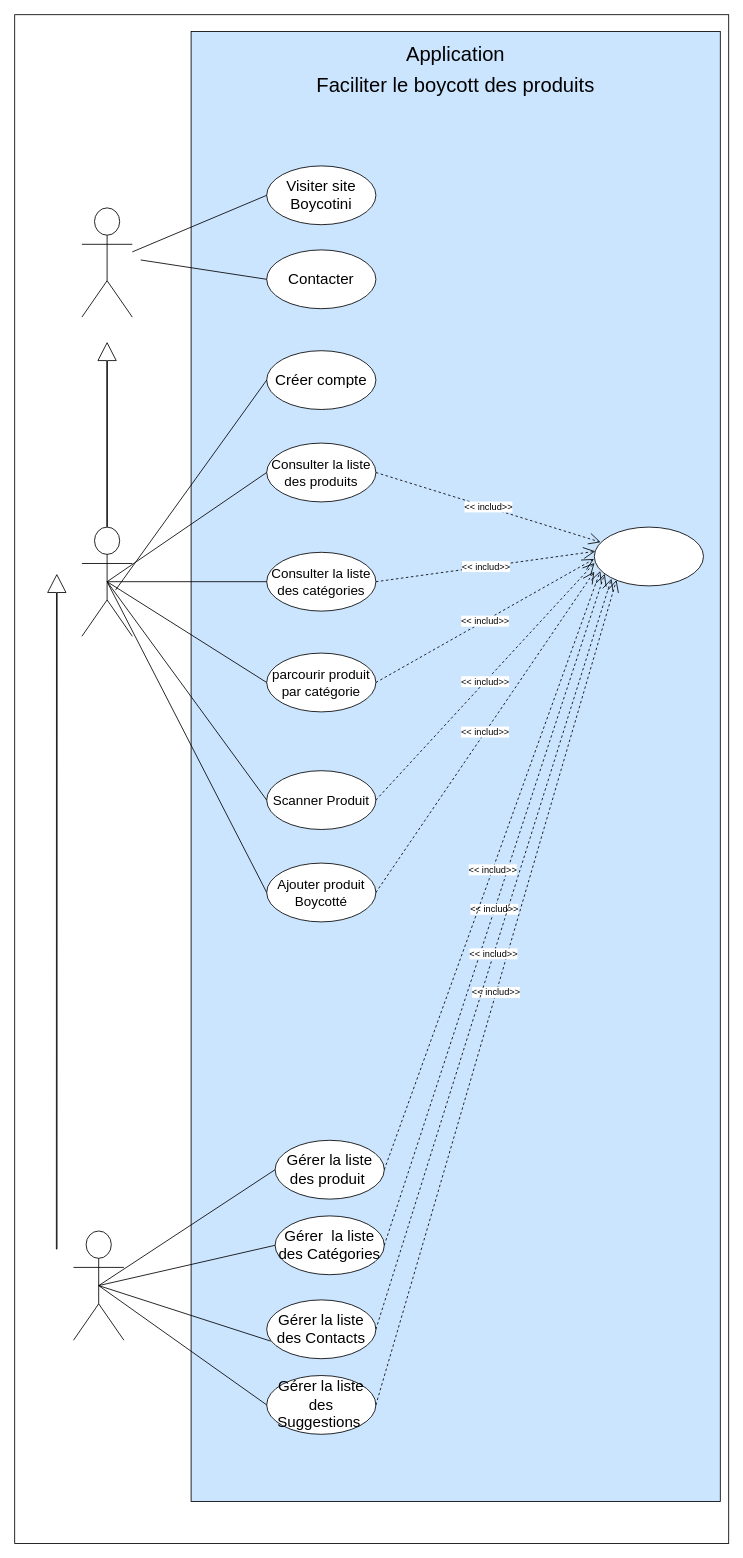
The diagram is 743 pixels wide and 1558 high, and some of its shapes have lost their labels. The shapes that lost their labels are listed below. From the top down, each one's centre as x and y in pixels, then its label:
At point 106,262: "Visiteur".
At point 648,556: "S'authentifié".
At point 106,581: "Utilisateur".
At point 98,1285: "Admin".
